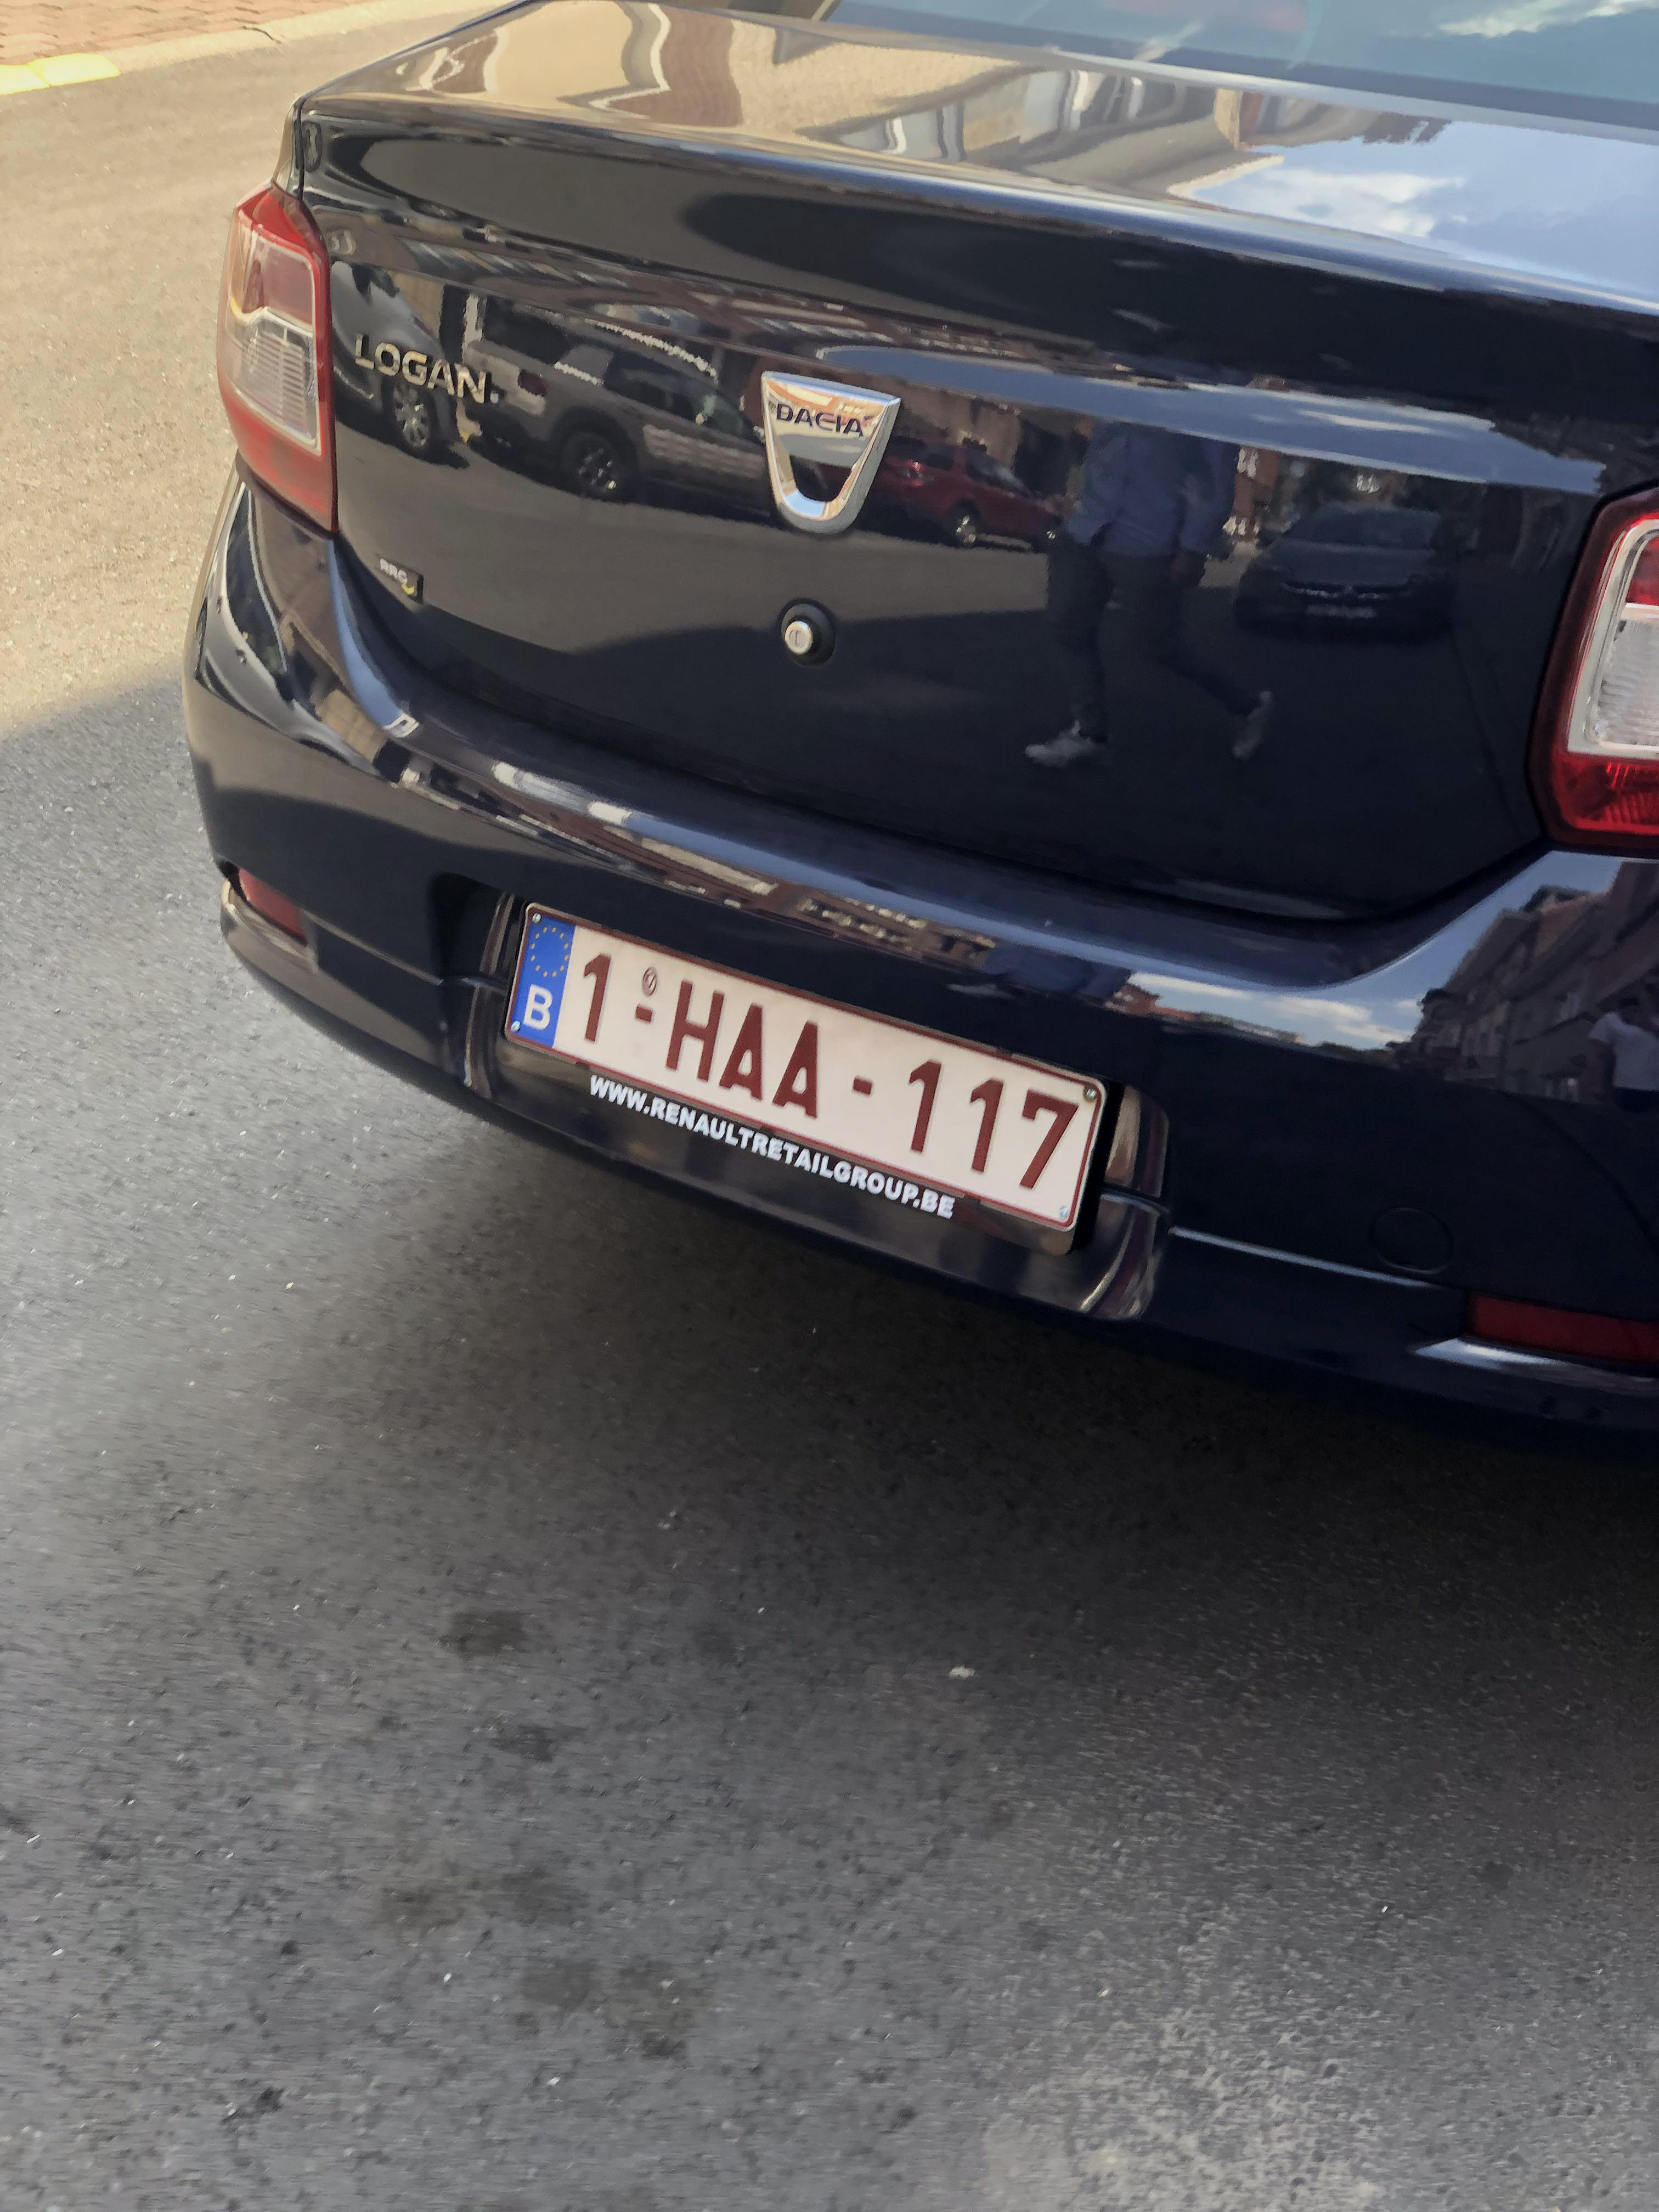plate: (490, 876, 1118, 1258)
